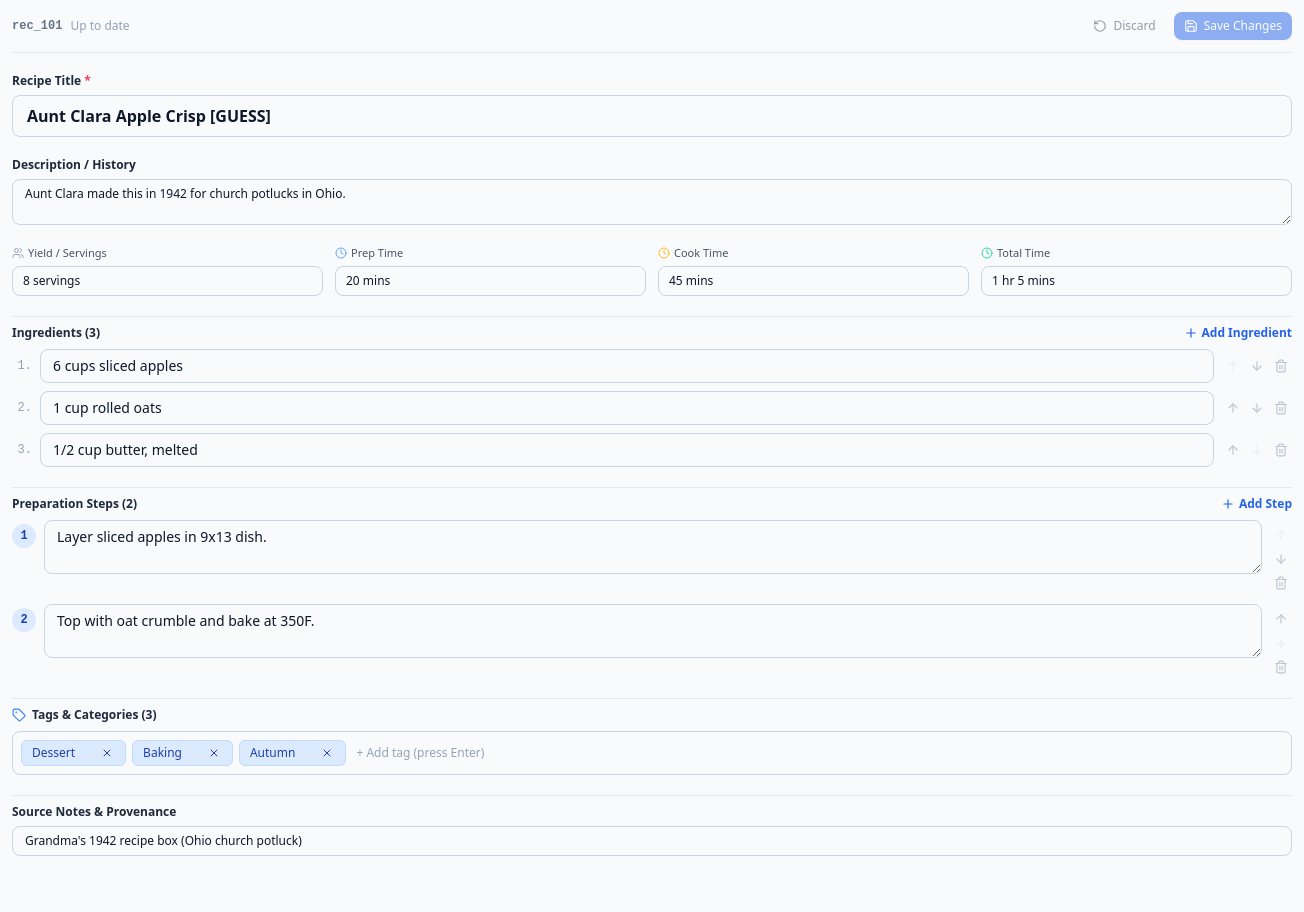
Test case: Milestone 3 Empirical Challenger: Recipe Editor UX & Tag Intelligence › Area 3: Inline Tag Editing Edge Cases & State Sync › RecipeForm full cycle: adds tag, deduplicates case-insensitively, edits tag, and saves dirty state
Expected: the text "Dessert" is shown, [32,744,75,760]
Expected: the text "Baking" is shown, [143,744,182,760]
// Attempt duplicate addition in different case: 'dessert'
Type "dessert" into the field with placeholder "+ Add tag (press Enter)" at (818, 752), box [352,742,1283,762]
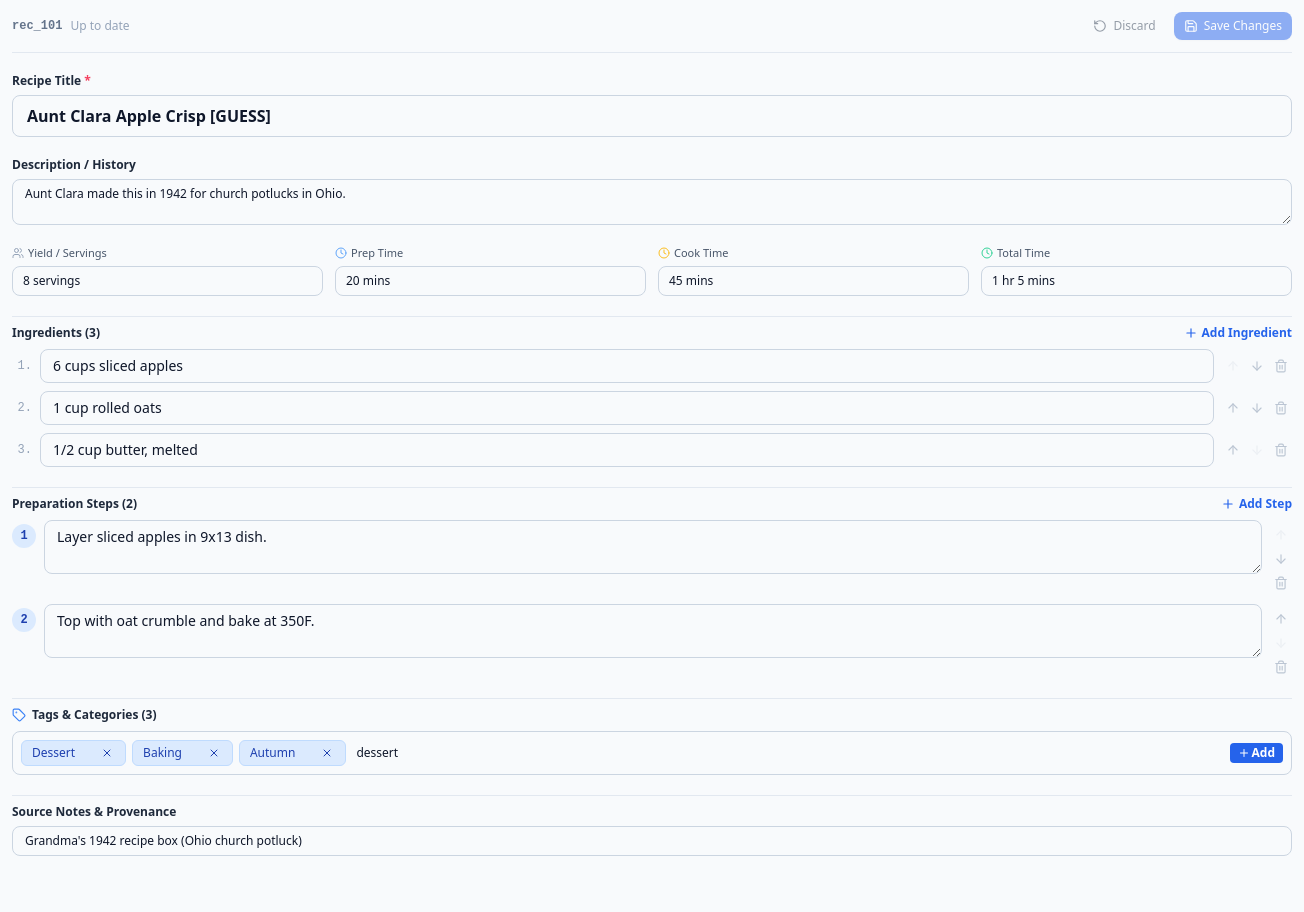
Press Enter in the field with placeholder "+ Add tag (press Enter)" next to "Autumn", box [352,742,1226,762]
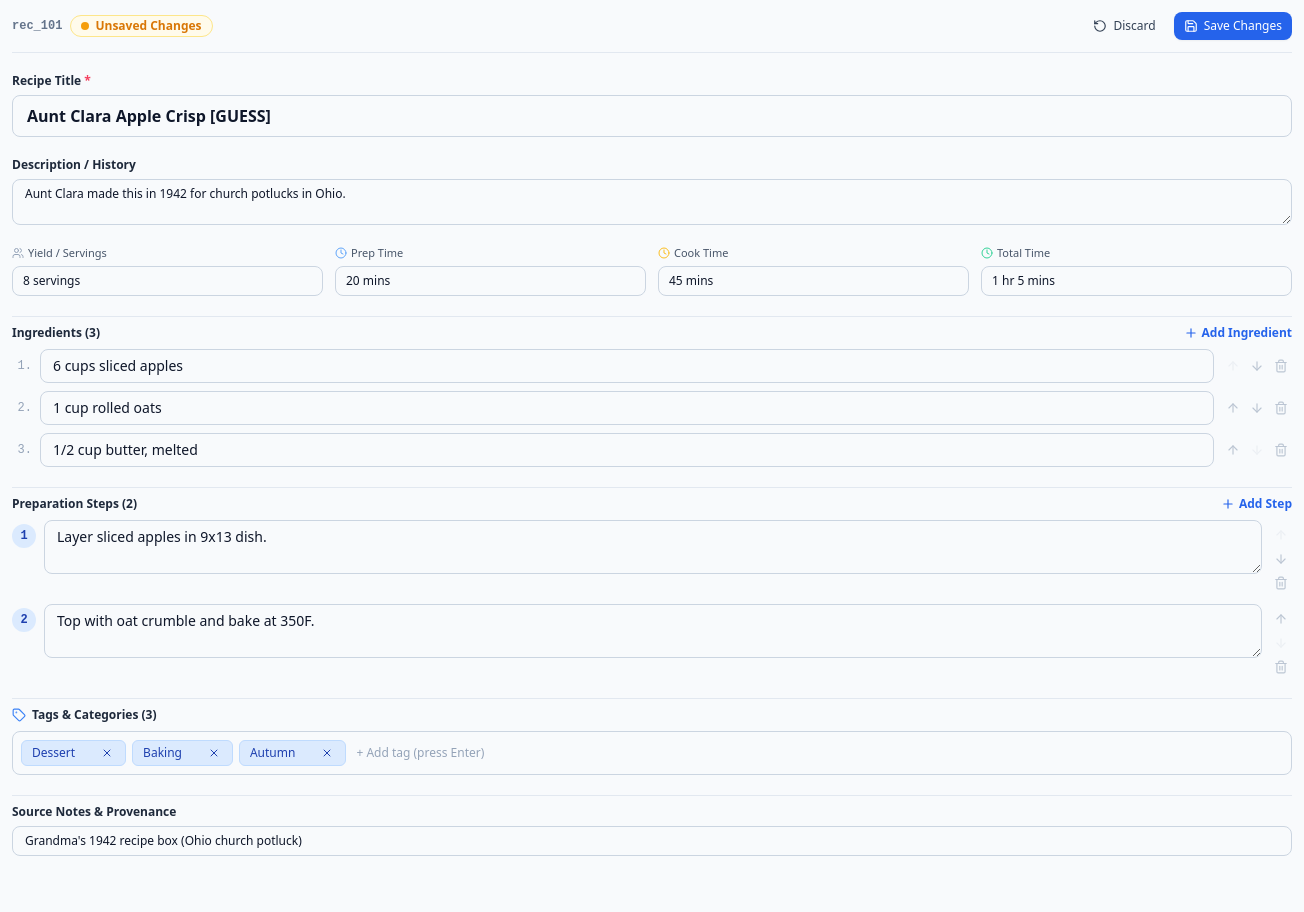
Expected: the text "Dessert" is shown once, [32,744,75,760]
// Add a valid new tag: 'Sunday Dinner'
Type "Sunday Dinner" into the field with placeholder "+ Add tag (press Enter)" at (818, 752), box [352,742,1283,762]
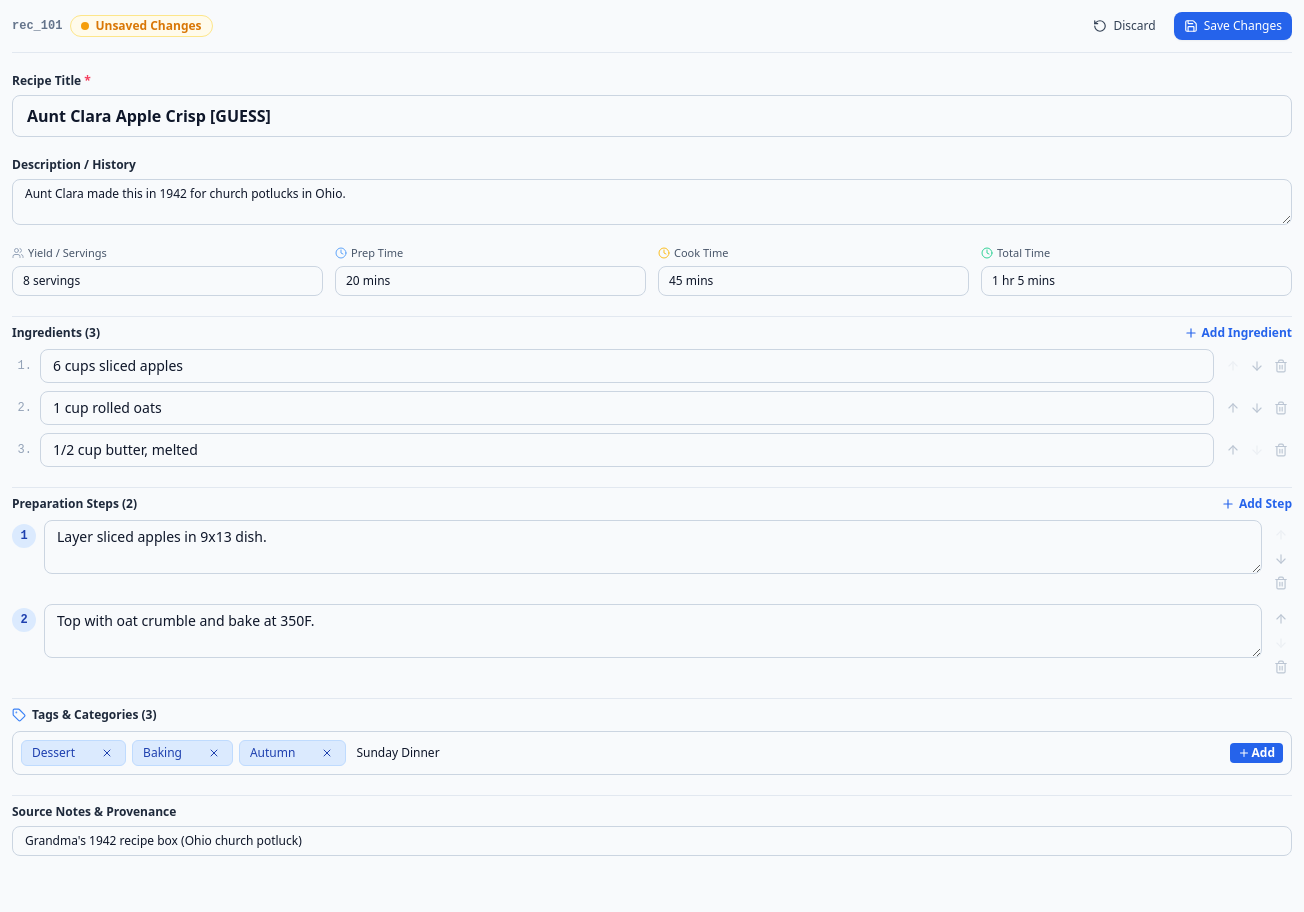
Press Enter in the field with placeholder "+ Add tag (press Enter)" next to "Autumn", box [352,742,1226,762]
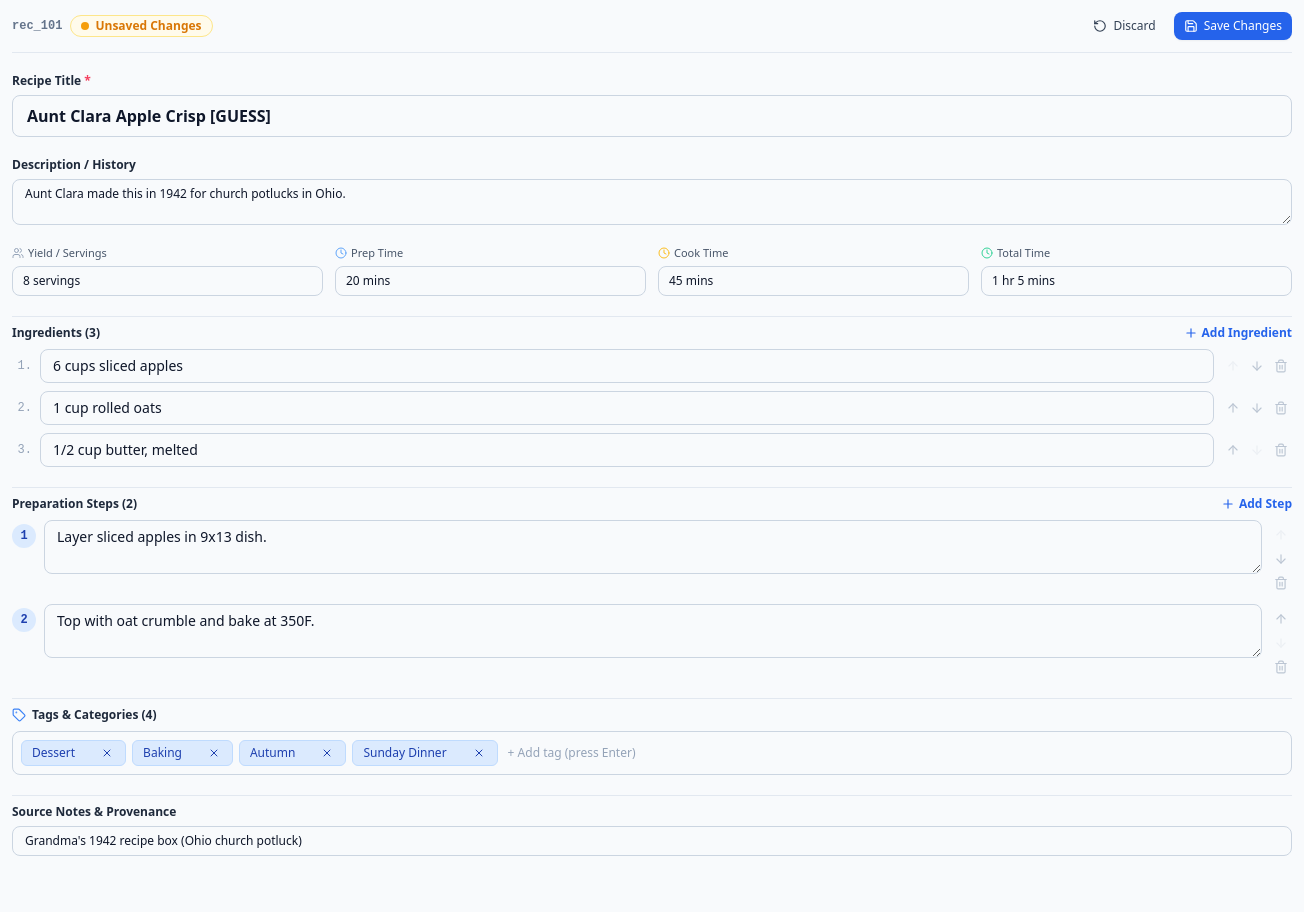
Expected: the text "Unsaved Changes" is shown, [70,15,212,37]
Expected: the text "Sunday Dinner" is shown, [363,744,447,760]
// Save form
Click the button "Save Changes" at (1233, 26), box [1174,12,1292,40]
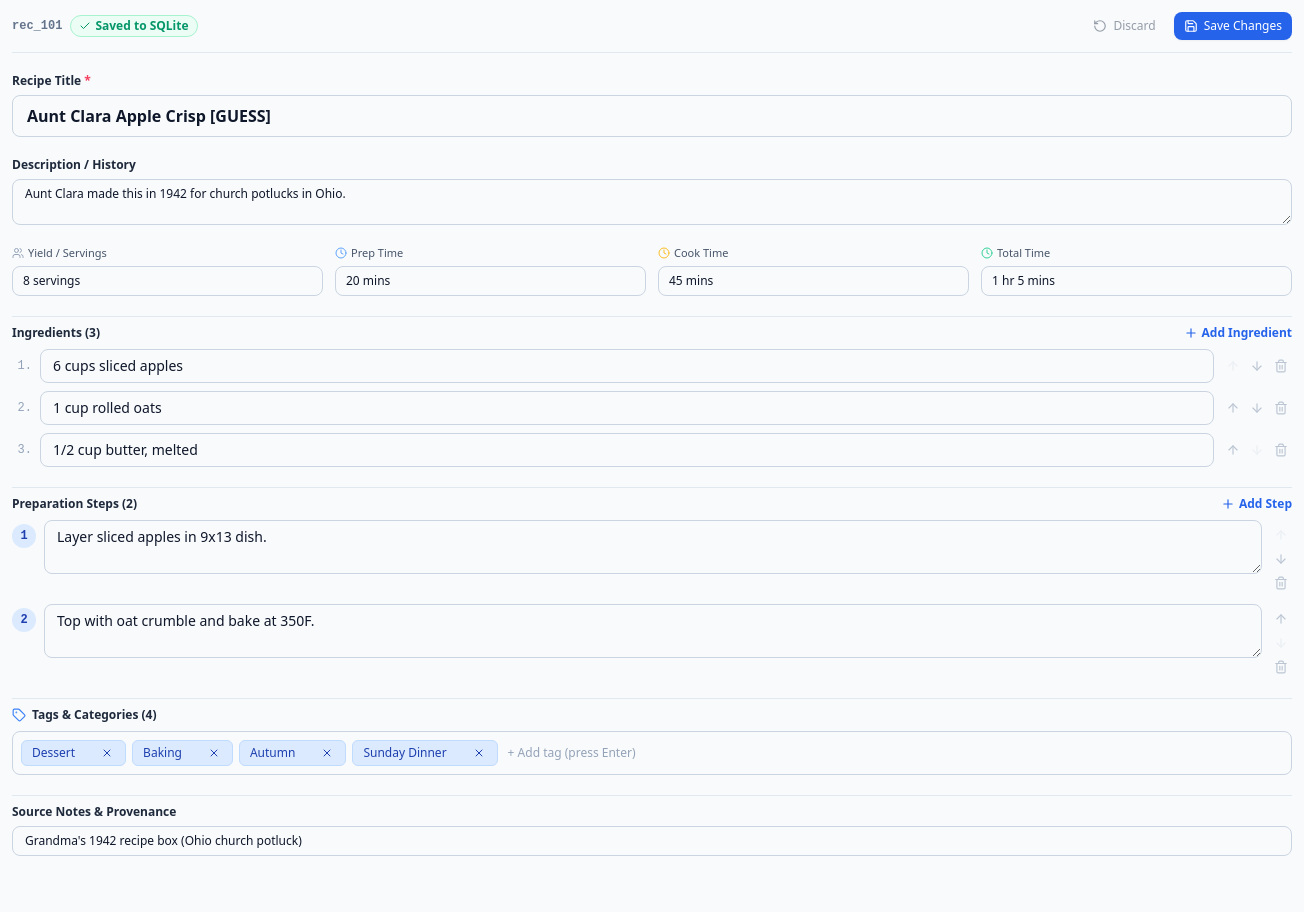
Expected: the text "Saved to SQLite" is shown, [70,15,198,37]
